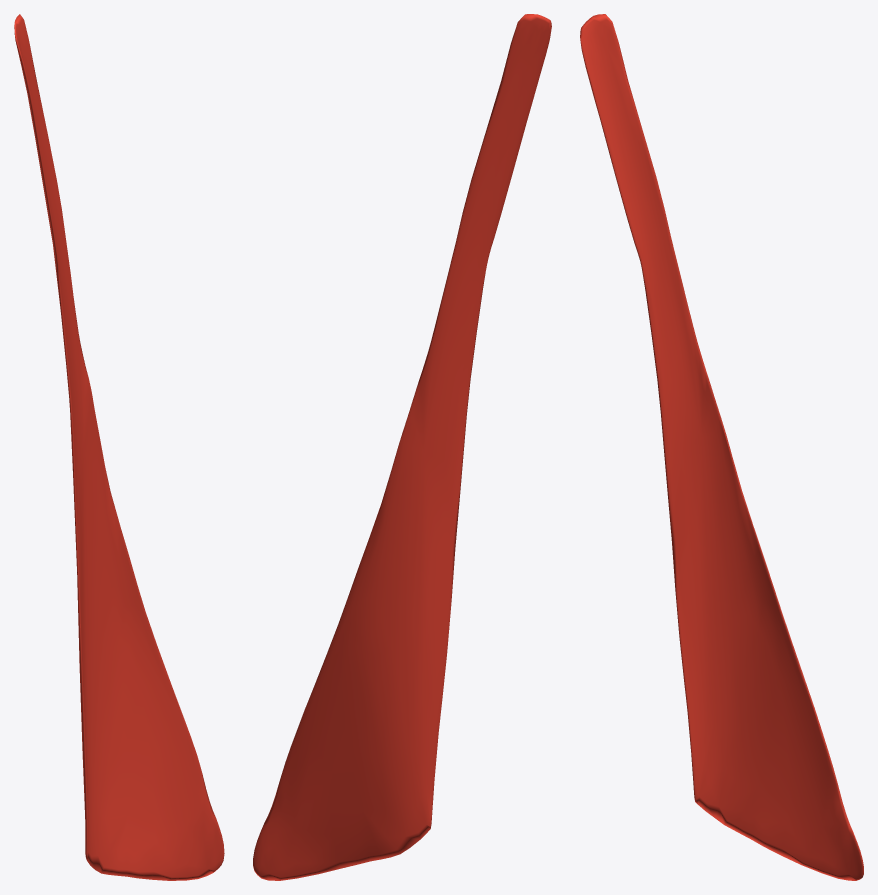
File: Medial_head_of_triceps_brachii-Humeral_insertion.l_Generated_Me.glb
3 views of the same model, side by side, from view 1: azimuth 30°, elevation 25°; view 2: azimuth 150°, elevation 25°; view 3: azimuth 330°, elevation 25° (orthographic). The views are drawn at different scales.
Visible parts, largest first — view 1: Medial_head_of_triceps_brachii-Humeral_insertion.l_Generated; view 2: Medial_head_of_triceps_brachii-Humeral_insertion.l_Generated; view 3: Medial_head_of_triceps_brachii-Humeral_insertion.l_Generated.
Part boxes in pixels (x1,y1,x2,y2): Medial_head_of_triceps_brachii-Humeral_insertion.l_Generated: (14, 14, 224, 880); Medial_head_of_triceps_brachii-Humeral_insertion.l_Generated: (253, 14, 551, 880); Medial_head_of_triceps_brachii-Humeral_insertion.l_Generated: (580, 14, 863, 880).
Size of the model in its own units: 0.0559 by 0.1925 by 0.0217.
